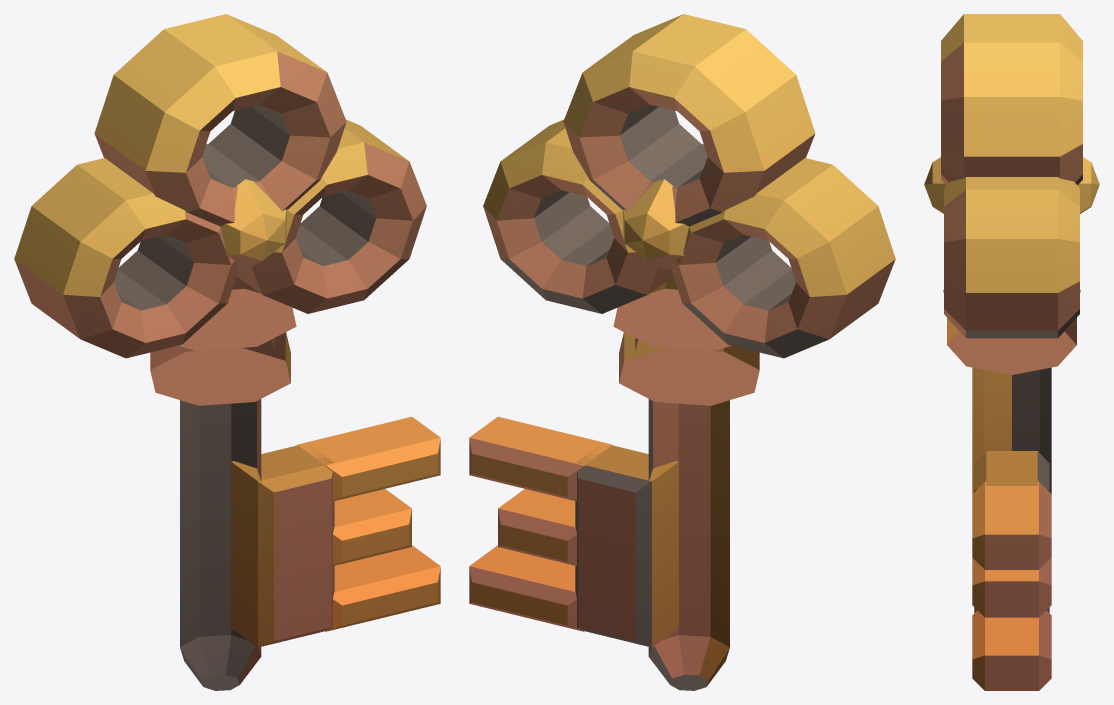
Rendered from key_bronze_ornate.glb.
3 views of the same model, side by side, from view 1: azimuth 30°, elevation 25°; view 2: azimuth 150°, elevation 25°; view 3: azimuth 270°, elevation 25° (orthographic). The views are drawn at different scales.
Visible parts, largest first — view 1: model; view 2: model; view 3: model.
Boxes of the visible parts, x1,y1,x2,y2 form: model: [14, 14, 440, 690]; model: [469, 14, 895, 690]; model: [924, 14, 1099, 690].
Bounding box in the file's own units: 0.48 × 0.76 × 0.2.
1 material, 1 textured.
